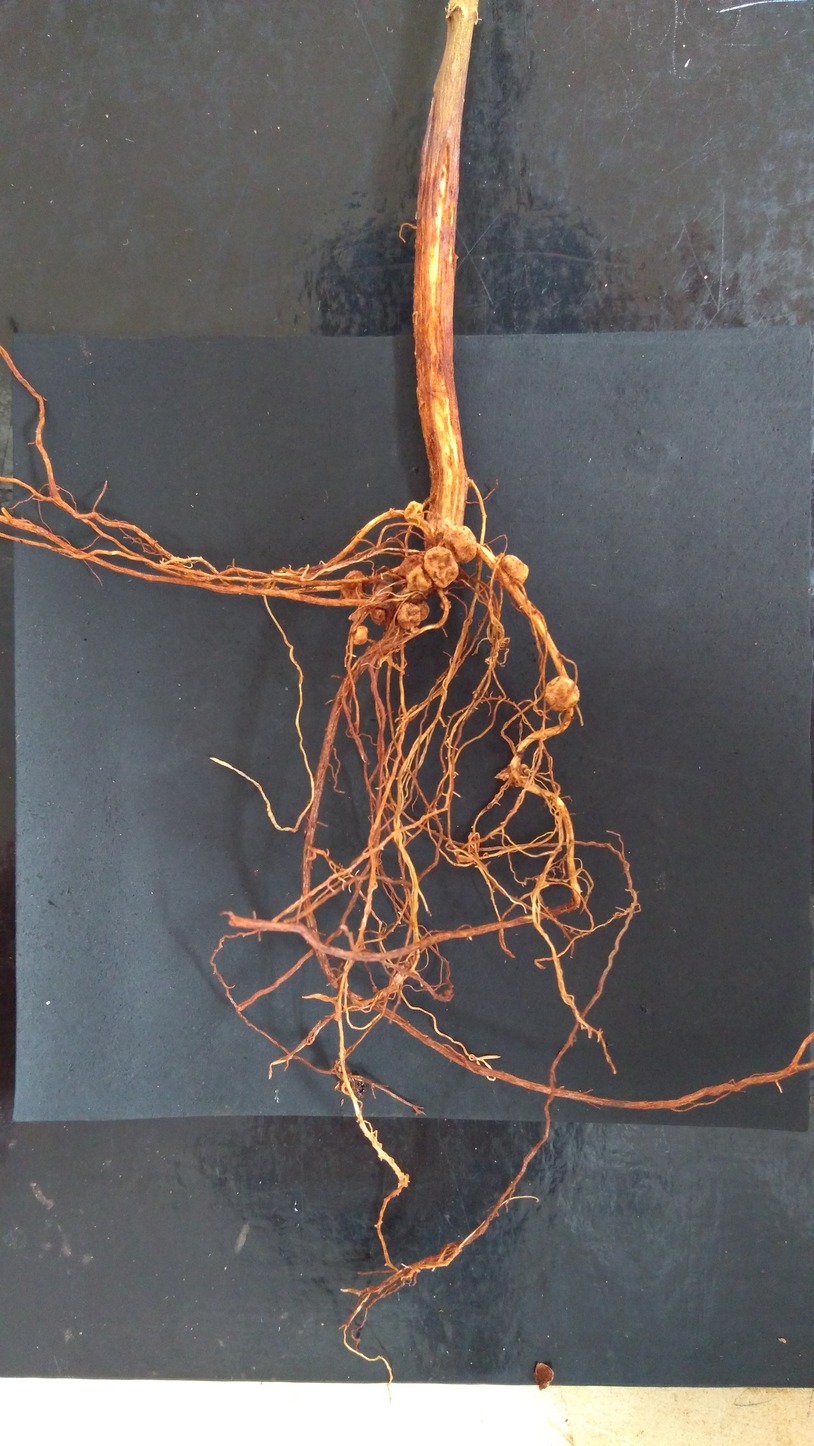nodule: (423, 546, 458, 588), (442, 525, 478, 565), (398, 553, 433, 593), (544, 676, 579, 711), (369, 578, 394, 626), (500, 554, 529, 585), (340, 570, 368, 602), (397, 601, 421, 630), (534, 1361, 554, 1390), (404, 500, 425, 525), (351, 623, 368, 646), (414, 599, 430, 622), (436, 517, 455, 533), (519, 763, 531, 776), (439, 600, 451, 611)
